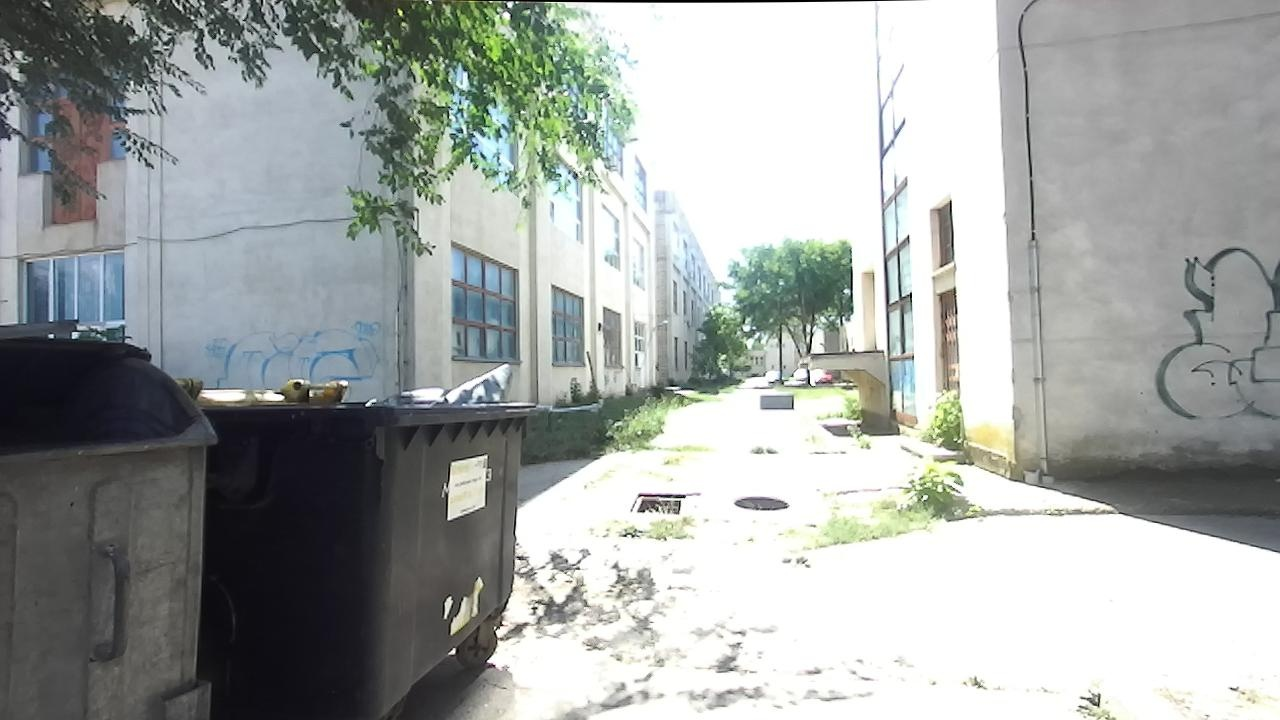drain: (628, 487, 689, 519), (728, 490, 791, 513)
